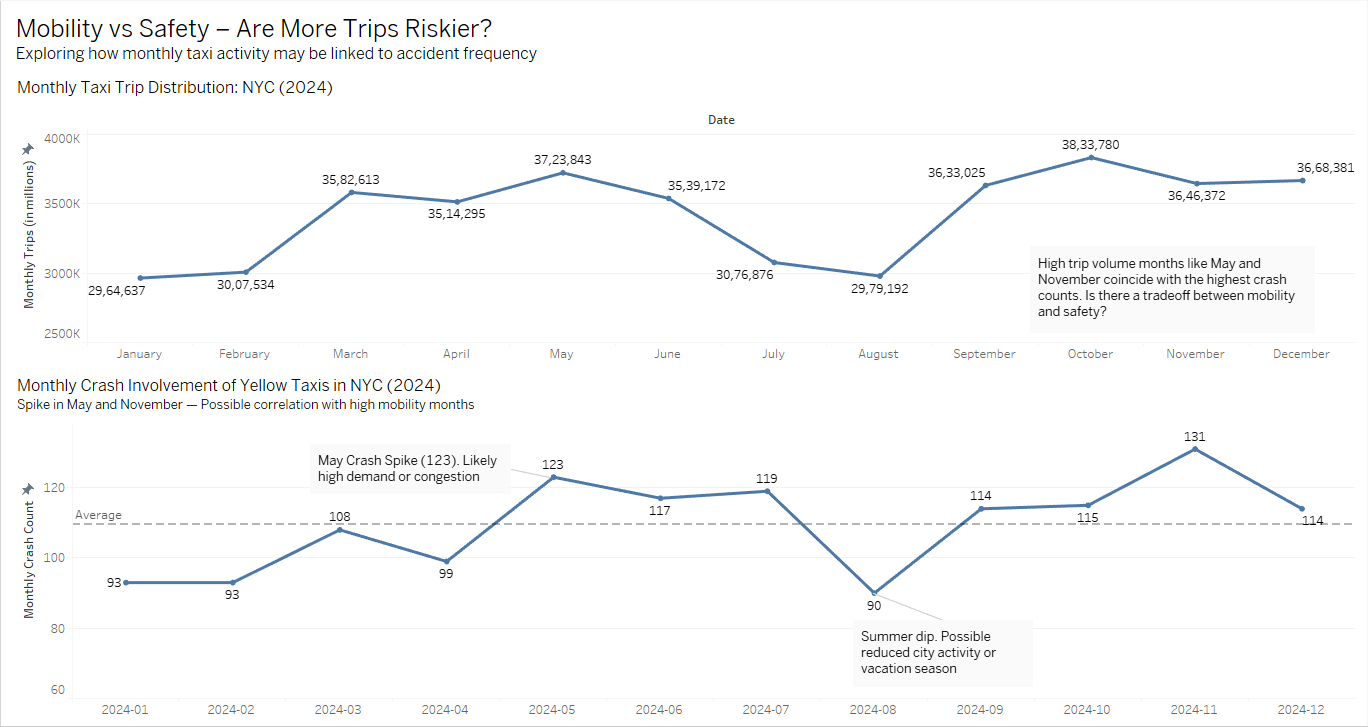

The dashboard page shown, as its layout file describes it:
{"tool":"tableau","page":{"name":"Dashboard 4: Mobility vs Safety","canvas":[1366,730],"ordinal":3},"visuals":[{"type":"title","box":[8,8,1350,60]},{"type":"worksheet","title":"Taxi Trips by Month","mark":"Automatic","rows":["trip_count"],"cols":["date"],"box":[8,68,1350,297.8]},{"type":"worksheet","title":"Crash Trend Over Time 2024","mark":"Line","rows":["total_crashed_vehicles"],"cols":["year_month"],"box":[8,365.8,1350,356.2]}]}

Visuals, with their boxes in screenshot pixels (x1, y1, x2, y2), scaled from the page's 1366x730 canvas onto the 1368x727 screenshot:
title: region(8, 8, 1360, 68)
"Taxi Trips by Month" worksheet: region(8, 68, 1360, 364)
"Crash Trend Over Time 2024" worksheet (Line marks): region(8, 364, 1360, 719)
